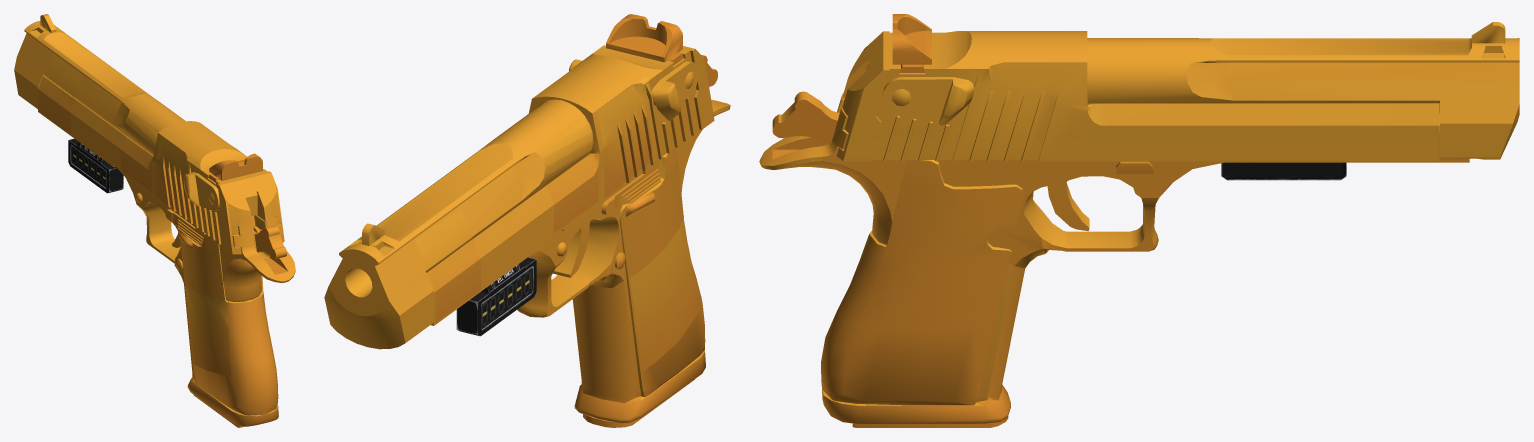
File: deagle.glb
The picture shows the model from 3 angles, left to right: view 1: azimuth 30°, elevation 25°; view 2: azimuth 150°, elevation 25°; view 3: azimuth 270°, elevation 25°; orthographic projection. The views are drawn at different scales.
Parts seen in each view (by area): view 1: LOD_Template, Gunlock1, Sticker4, Sticker1, Sticker3, Sticker2, StatTrack.001; view 2: LOD_Template, Gunlock1, Sticker4, Sticker1, Sticker3, Sticker2, StatTrack.001, Magazine1; view 3: LOD_Template, Gunlock1, StatTrack.001.
Boxes of the visible parts, x1,y1,x2,y2 form: LOD_Template: (14,14,295,426); Gunlock1: (38,75,284,254); Sticker4: (185,286,231,376); Sticker1: (38,53,83,133); Sticker3: (155,135,193,219); Sticker2: (121,111,158,192); StatTrack.001: (68,138,123,193); LOD_Template: (324,55,730,423); Gunlock1: (426,14,714,325); Sticker4: (630,216,699,371); Sticker1: (415,208,480,323); Sticker3: (597,76,651,198); Sticker2: (538,117,598,233); StatTrack.001: (456,257,536,336); Magazine1: (583,161,694,427); LOD_Template: (759,22,1519,424); Gunlock1: (836,14,1439,161); StatTrack.001: (1221,162,1346,180).
Size of the model in its own units: 0.0931 by 0.308 by 0.5422.
Materials: 6 (6 with a texture image).
